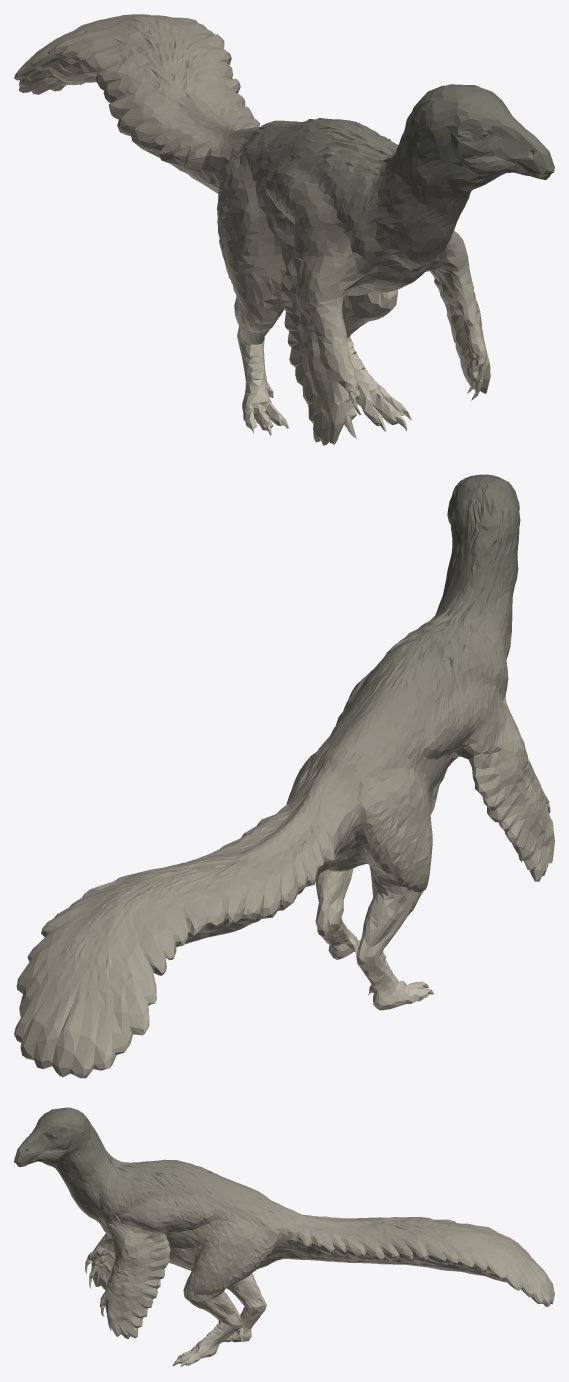
Rendered from beipiaosaurus.glb.
3 views of the same model, one above another, from view 1: azimuth 30°, elevation 25°; view 2: azimuth 150°, elevation 25°; view 3: azimuth 270°, elevation 25° (orthographic). The views are drawn at different scales.
Parts seen in each view (by area): view 1: dino; view 2: dino; view 3: dino.
Part boxes in pixels (box(x1,y1,x2,y2)): dino: box(14, 14, 554, 445); dino: box(14, 474, 554, 1078); dino: box(14, 1107, 554, 1366).
Size of the model in its own units: 43.11 by 86.2 by 172.
